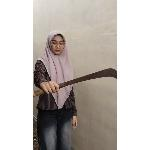Golok: (33, 64, 117, 99)
